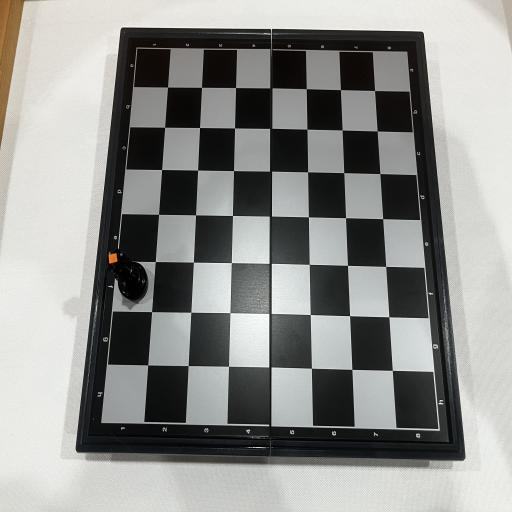Black queen: (106, 248, 148, 301)
